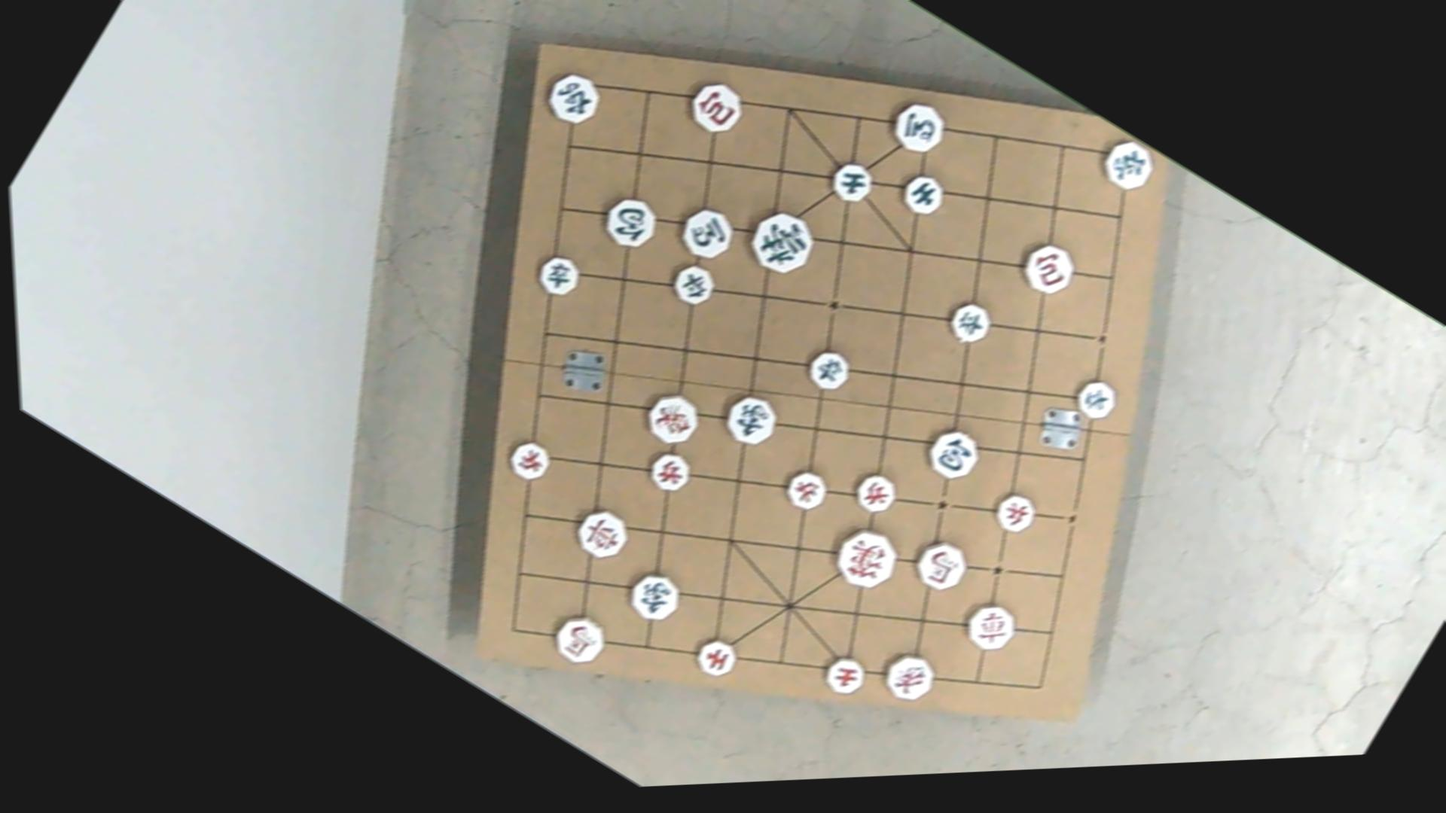cha_green: (1093, 129, 1164, 199), (539, 62, 609, 131)
cha_red: (565, 498, 634, 565), (954, 593, 1023, 660)
jol_green: (1068, 371, 1125, 427), (529, 246, 586, 302), (941, 294, 998, 349), (666, 257, 722, 312), (801, 343, 857, 397)
jol_red: (776, 460, 834, 516), (641, 443, 699, 499), (987, 486, 1042, 540), (502, 435, 558, 488), (847, 466, 901, 519)
ma_green: (883, 92, 953, 161), (672, 199, 740, 267)
ma_red: (543, 604, 618, 675), (910, 532, 978, 599)
po_green: (596, 187, 665, 256), (920, 422, 987, 488)
po_red: (682, 72, 752, 141), (1014, 233, 1083, 302)
sa_green: (896, 169, 952, 223), (823, 155, 878, 209)
sa_red: (812, 646, 875, 706), (687, 631, 746, 687)
sang_green: (714, 384, 784, 453), (621, 561, 689, 629)
sang_red: (635, 382, 705, 451), (876, 645, 942, 710)
wang_green: (737, 199, 823, 285)
wang_red: (824, 518, 908, 600)
